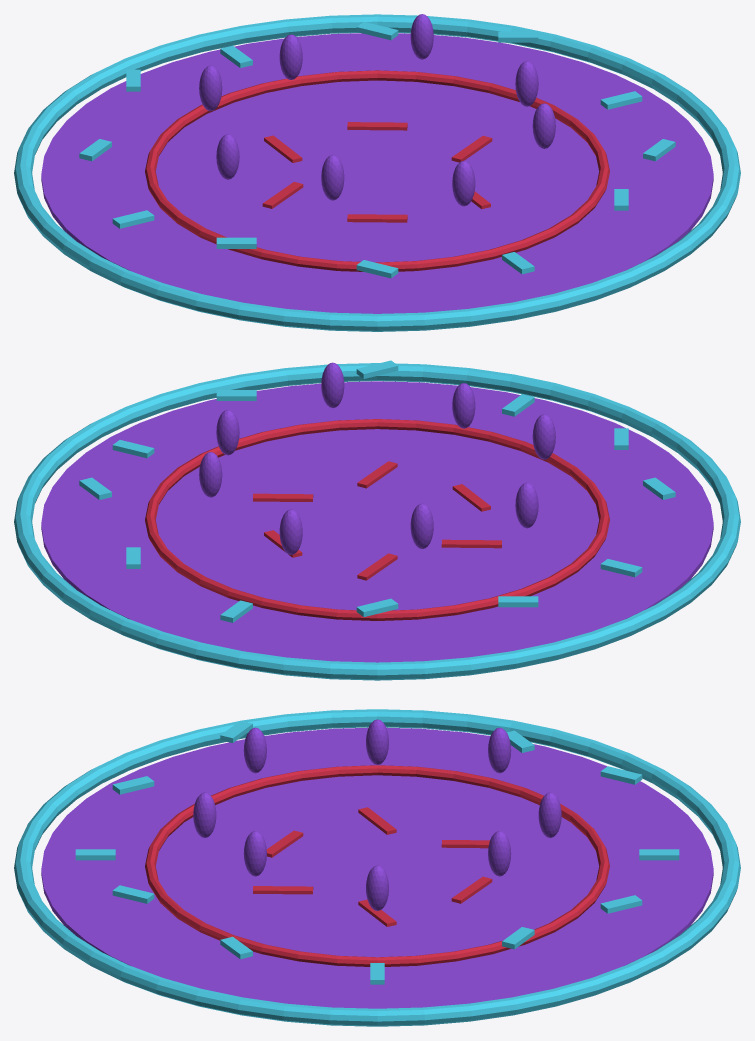
Rendered from SpellAura_Activated.obj.
3 renders of one model, top to bottom at view 1: azimuth 30°, elevation 25°; view 2: azimuth 150°, elevation 25°; view 3: azimuth 270°, elevation 25°, orthographic.
Parts seen in each view (by area): view 1: Disc, OuterRing, InnerRing, Wisp_0, Wisp_2, Wisp_4, Wisp_6, Wisp_1, Wisp_3, Wisp_7, Wisp_5, Sigil_2 (+1 smaller); view 2: Disc, OuterRing, InnerRing, Wisp_4, Wisp_0, Wisp_2, Wisp_3, Wisp_1, Wisp_5, Wisp_6, Wisp_7; view 3: Disc, OuterRing, InnerRing, Wisp_2, Wisp_6, Wisp_0, Wisp_1, Wisp_7, Wisp_3, Wisp_4, Wisp_5.
Part boxes in pixels (box(x1,y1,x2,y2)): Disc: box(41, 33, 713, 313); OuterRing: box(14, 14, 740, 331); InnerRing: box(145, 70, 609, 271); Wisp_0: box(515, 61, 538, 106); Wisp_2: box(452, 161, 475, 206); Wisp_4: box(216, 134, 239, 179); Wisp_6: box(279, 34, 302, 79); Wisp_1: box(532, 103, 555, 148); Wisp_3: box(321, 155, 344, 200); Wisp_7: box(410, 14, 433, 59); Wisp_5: box(199, 65, 222, 111); Sigil_2: box(347, 214, 407, 222); Disc: box(41, 381, 713, 662); OuterRing: box(14, 363, 740, 680); InnerRing: box(145, 419, 609, 620); Wisp_4: box(515, 482, 538, 528); Wisp_0: box(216, 410, 239, 455); Wisp_2: box(452, 383, 475, 428); Wisp_3: box(532, 414, 555, 459); Wisp_1: box(321, 362, 344, 407); Wisp_5: box(410, 503, 433, 548); Wisp_6: box(279, 509, 302, 554); Wisp_7: box(199, 452, 222, 497); Disc: box(41, 727, 713, 1008); OuterRing: box(14, 709, 740, 1026); InnerRing: box(145, 765, 609, 966); Wisp_2: box(193, 792, 216, 837); Wisp_6: box(538, 792, 561, 837); Wisp_0: box(366, 865, 388, 910); Wisp_1: box(243, 831, 266, 876); Wisp_7: box(488, 831, 511, 876); Wisp_3: box(243, 727, 266, 773); Wisp_4: box(366, 719, 388, 764); Wisp_5: box(488, 727, 511, 773).
Size of the model in its own units: 4 by 0.5836 by 4.
